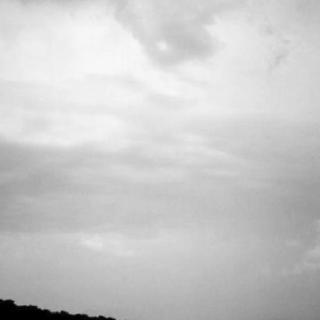Stratus: (0, 0, 320, 292)
